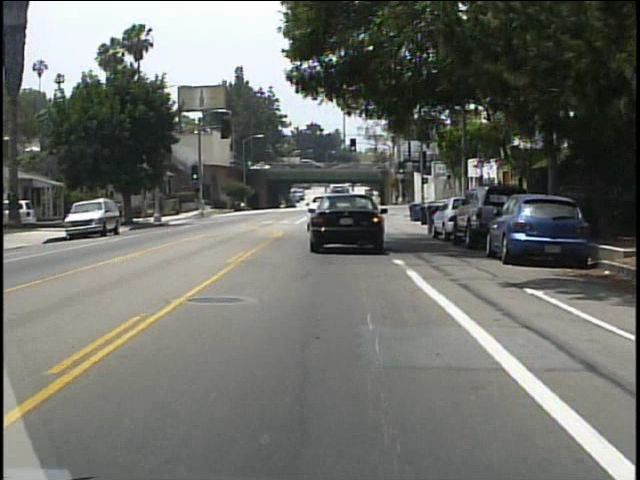person: (118, 199, 126, 223)
